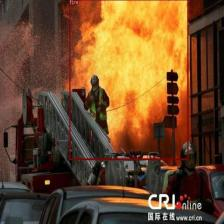fire: (69, 0, 188, 159)
